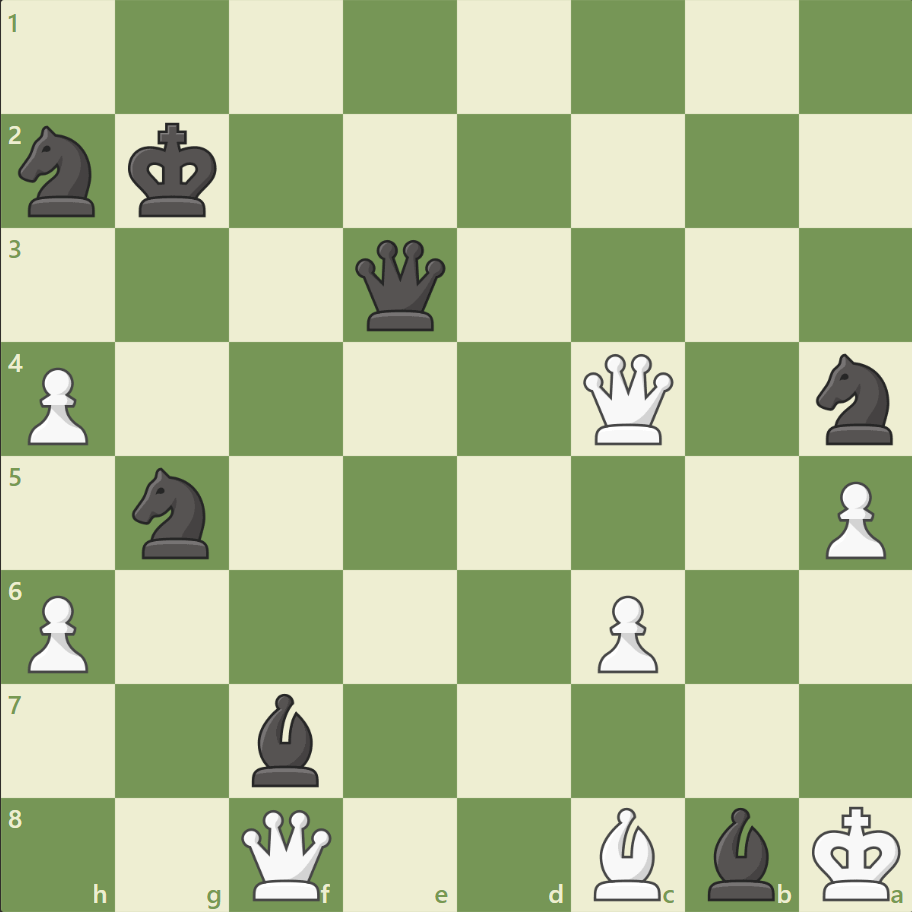B: (585, 801, 669, 904)
K: (806, 798, 906, 906)
P: (20, 586, 95, 677), (20, 359, 95, 450), (588, 586, 662, 677), (815, 473, 889, 564)
Q: (578, 349, 677, 449), (237, 804, 336, 903)
b: (698, 801, 782, 904), (244, 687, 328, 790)
k: (124, 117, 224, 225)
n: (124, 461, 222, 564), (806, 348, 903, 450), (11, 121, 108, 223)
q: (351, 236, 450, 335)
